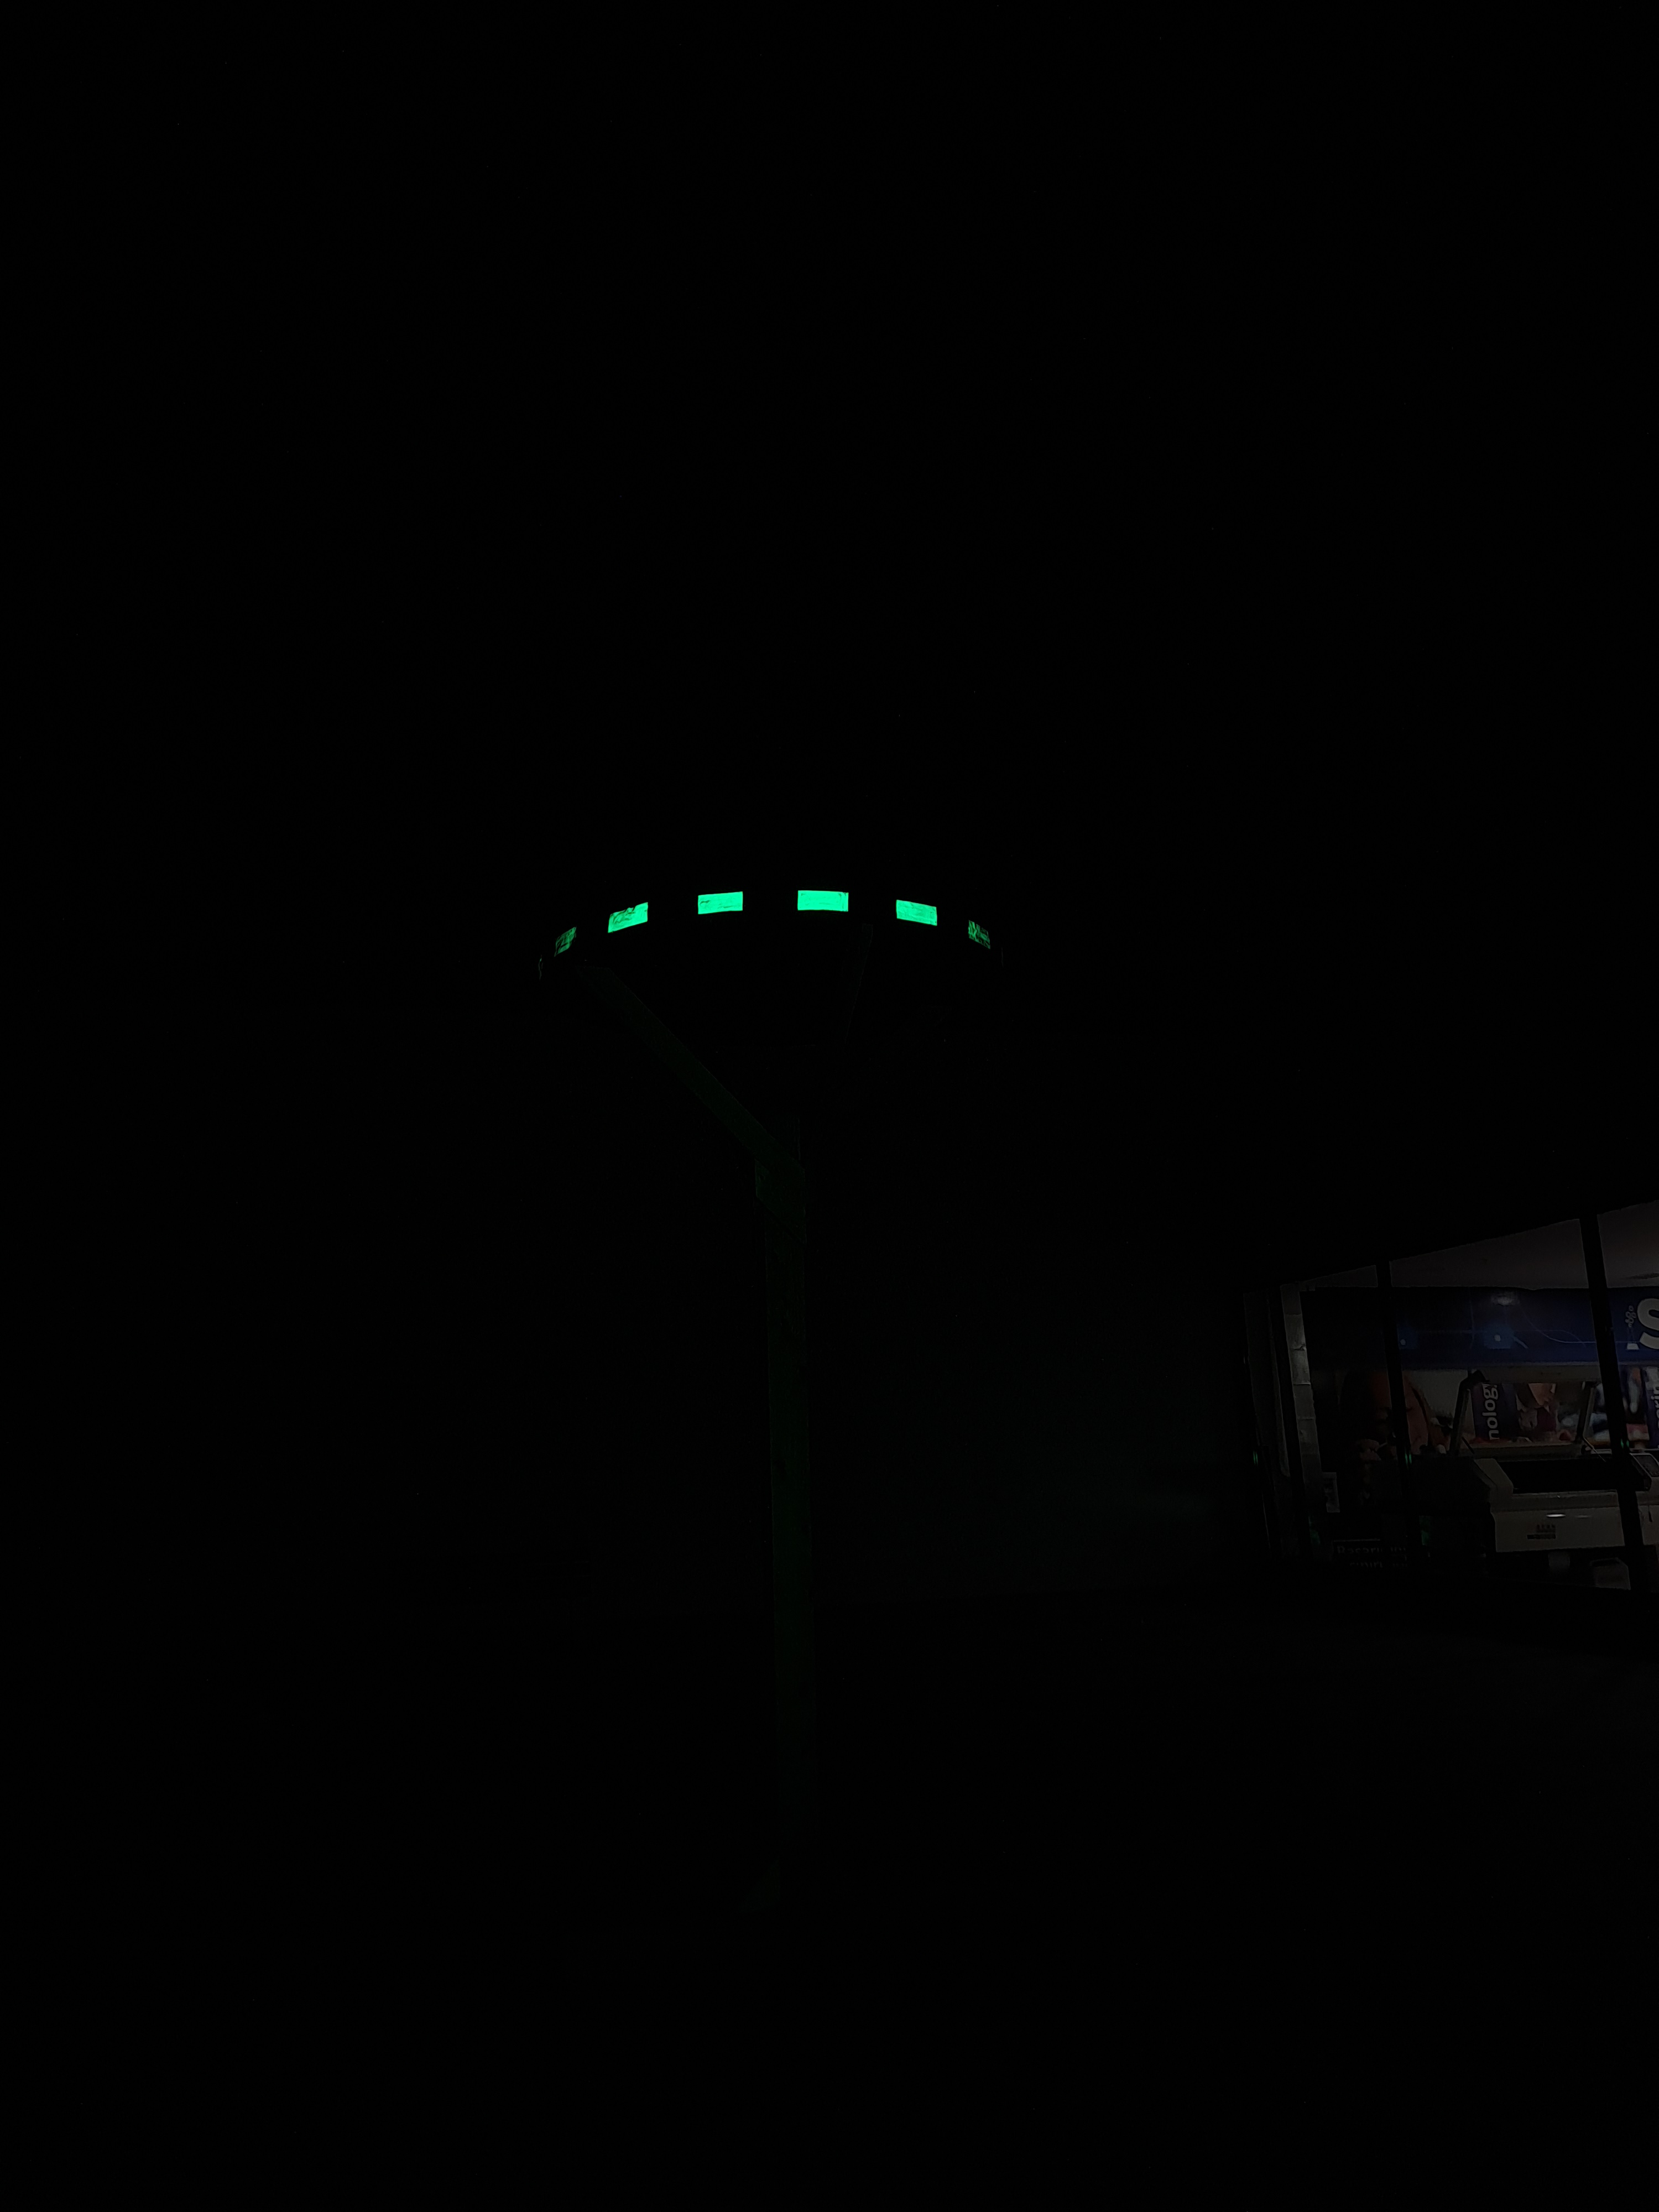hoop: (500, 862, 1009, 970)
